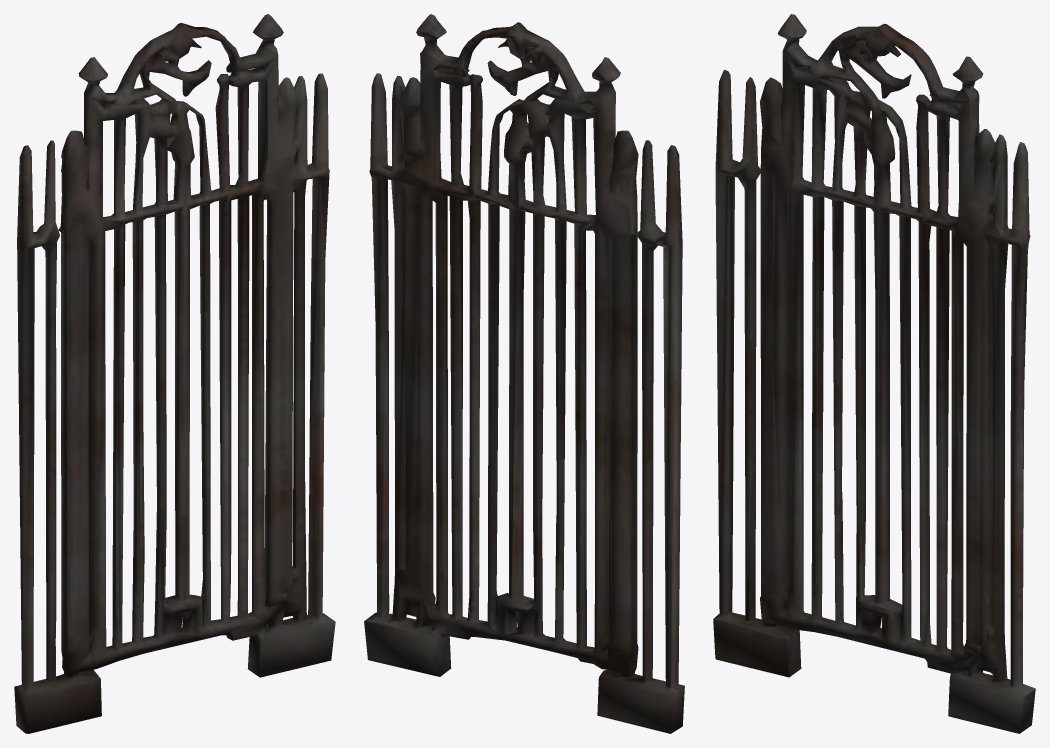
File: weathered-iron-iron-gate-v002.glb
3 renders of one model, left to right at view 1: azimuth 30°, elevation 25°; view 2: azimuth 150°, elevation 25°; view 3: azimuth 330°, elevation 25°, orthographic.
Parts seen in each view (by area): view 1: weathered-iron-iron-gate; view 2: weathered-iron-iron-gate; view 3: weathered-iron-iron-gate.
Part boxes in pixels (x1,y1,x2,y2): weathered-iron-iron-gate: (14,14,335,733); weathered-iron-iron-gate: (364,14,684,733); weathered-iron-iron-gate: (713,14,1035,733).
Size of the model in its own units: 1.25 by 2.57 by 0.0999.
1 material, 1 textured.
